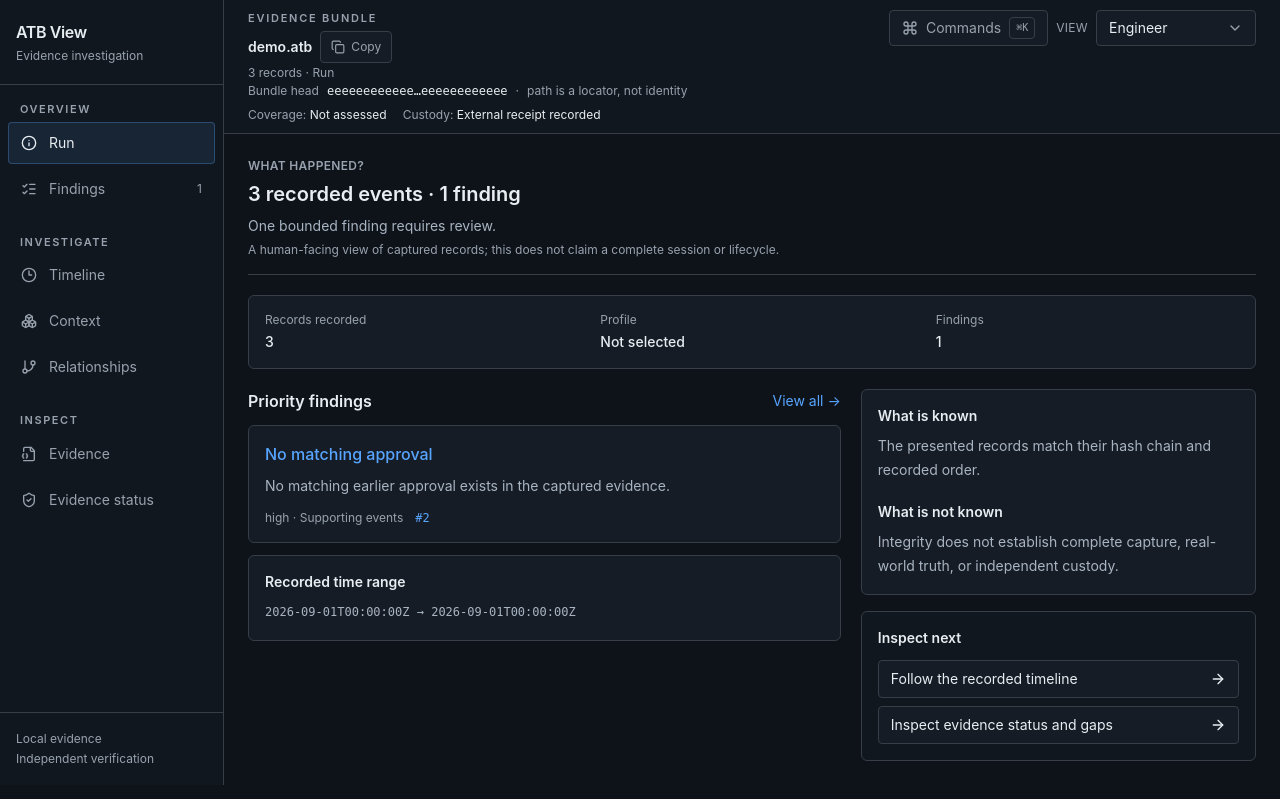
Scenario: ATB View investigation model › reports absent and present external custody without scoring it
Click the button "Evidence status" at coordinates (112, 500), box [8,478,215,520]
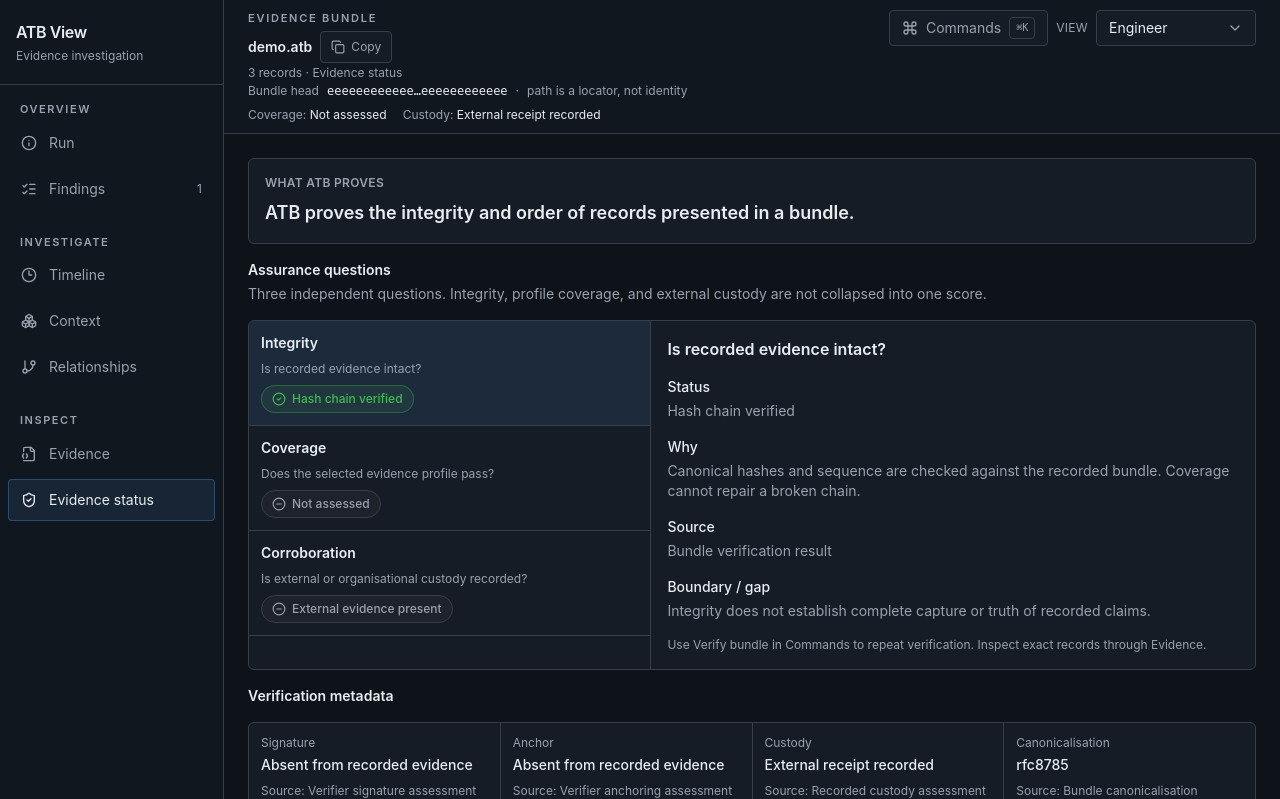
expect the text "External evidence present" is shown: met, box [261,594,452,622]
